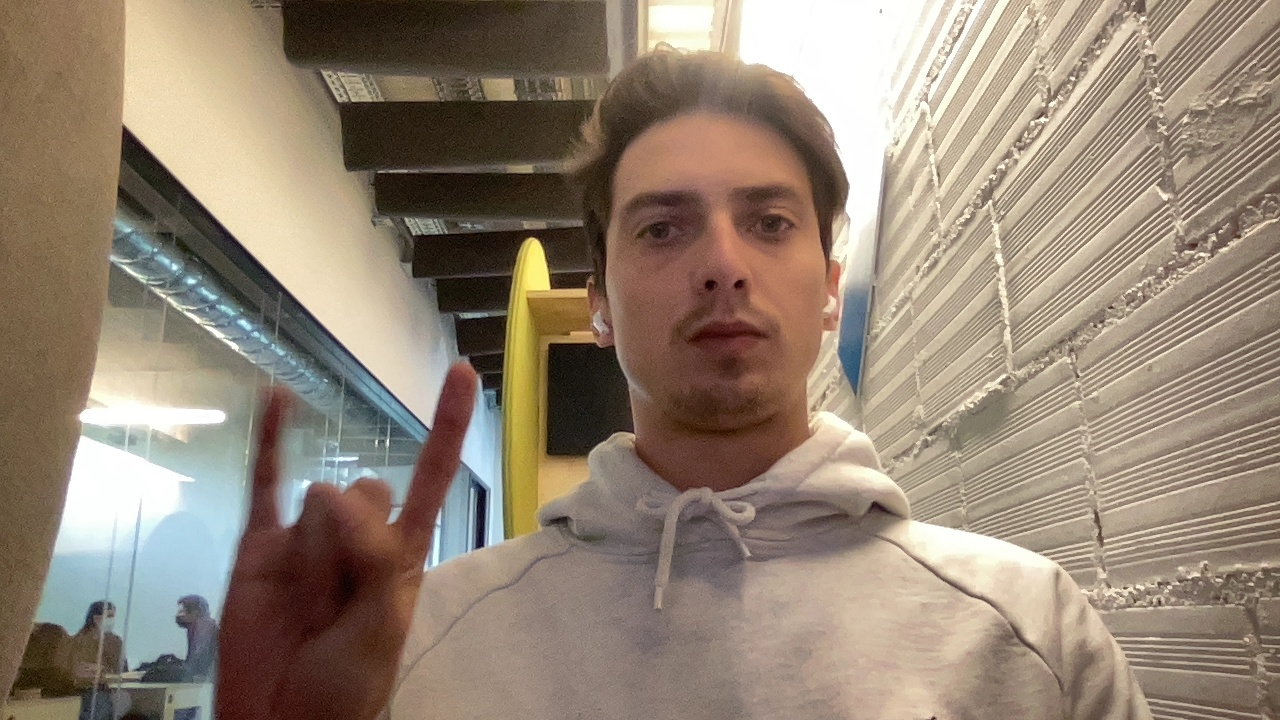iloveyou: (187, 341, 510, 717)
